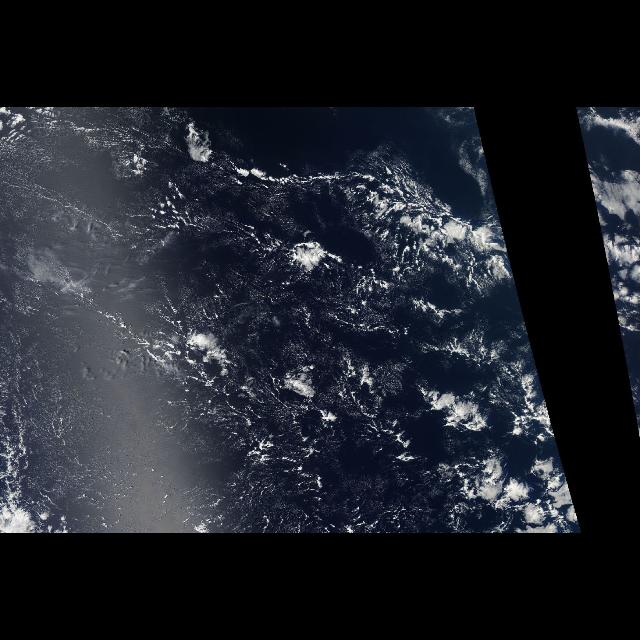Gravel: (158, 323, 392, 442), (242, 444, 432, 528)
Sugar: (7, 114, 457, 520)
